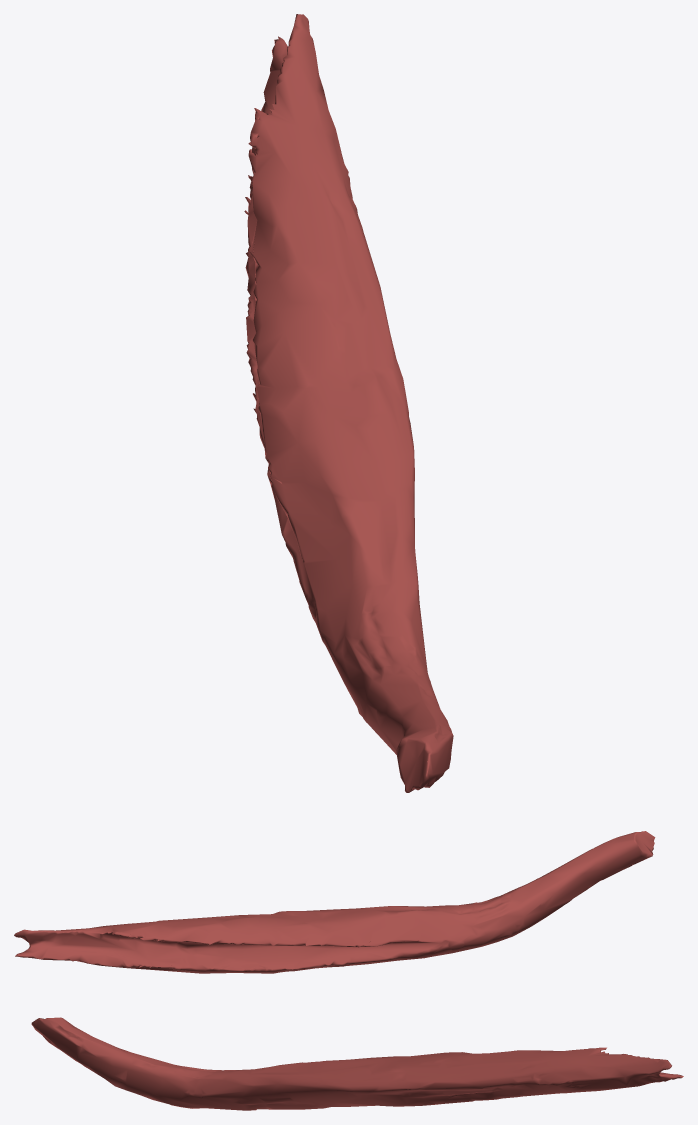
File: FMA37485.glb
3 views of the same model, one above another, from view 1: azimuth 30°, elevation 25°; view 2: azimuth 150°, elevation 25°; view 3: azimuth 270°, elevation 25° (orthographic). The views are drawn at different scales.
Parts seen in each view (by area): view 1: FMA37485; view 2: FMA37485; view 3: FMA37485.
Boxes of the visible parts, x1,y1,x2,y2 form: FMA37485: (244,14,453,792); FMA37485: (14,831,655,973); FMA37485: (31,1017,683,1110).
Size of the model in its own units: 0.0302 by 0.0143 by 0.0631.
